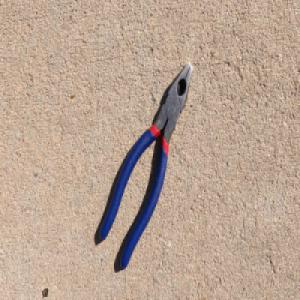Pliers: (96, 57, 194, 274)
